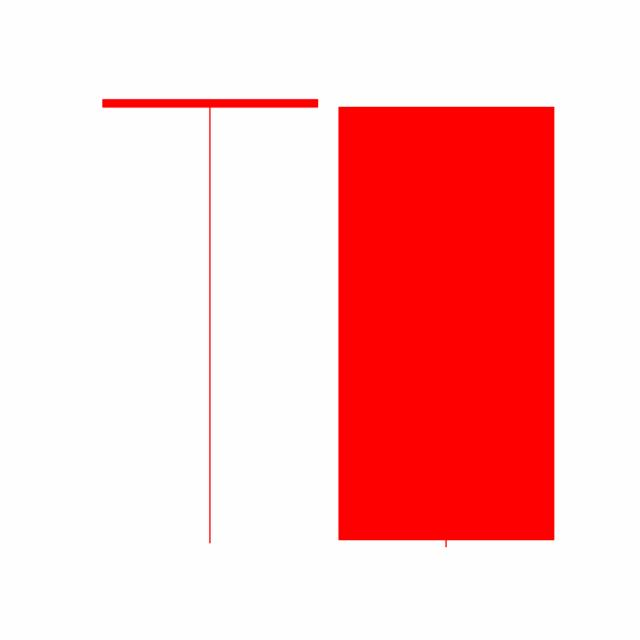Marubozu: (327, 102, 565, 552)
